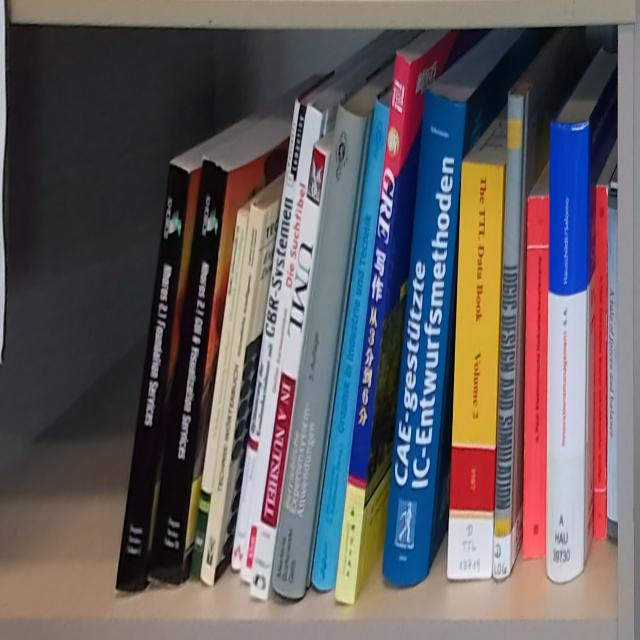Book Spine: (272, 101, 366, 599), (334, 52, 411, 606), (382, 87, 464, 586), (239, 105, 323, 583), (313, 97, 391, 591), (231, 97, 307, 571), (250, 144, 327, 602), (151, 157, 228, 586), (115, 158, 189, 592), (201, 203, 265, 584), (448, 161, 504, 578), (187, 208, 248, 582), (547, 122, 591, 583), (494, 93, 524, 580), (523, 196, 550, 559), (594, 183, 608, 542), (608, 181, 617, 543)
